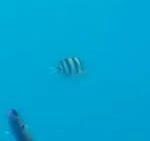smallfish: (43, 52, 94, 87)
